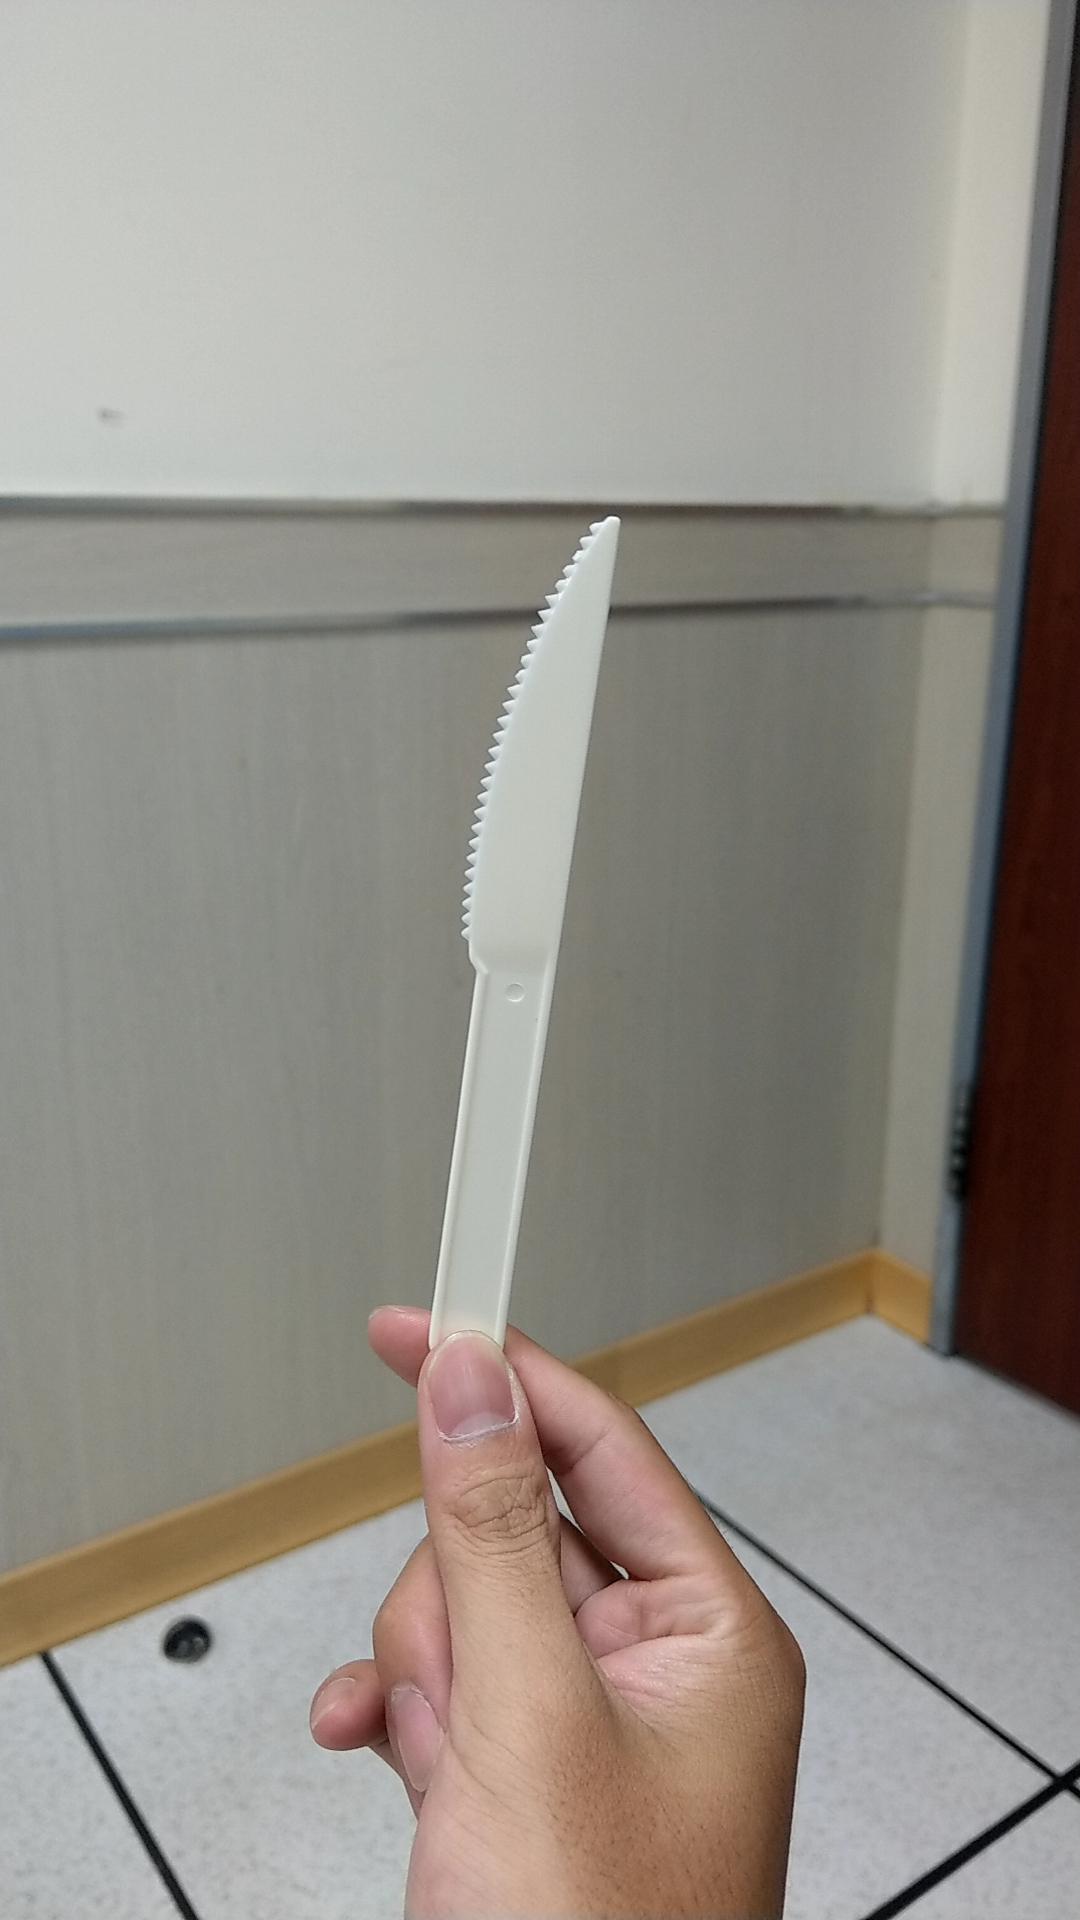knife: (404, 497, 625, 1311)
